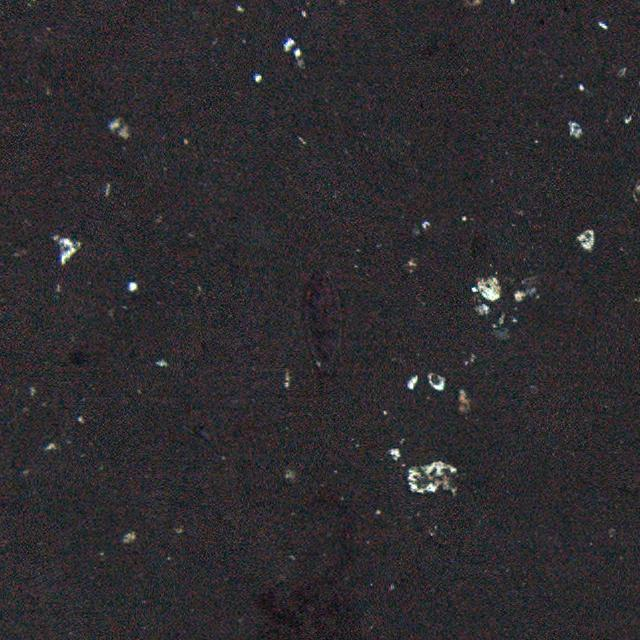flatfish: (298, 270, 348, 386)
